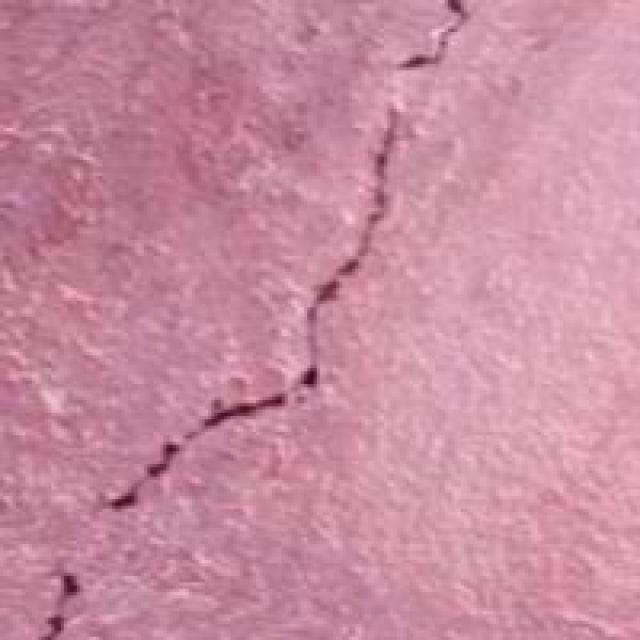crack: (32, 0, 462, 640)
